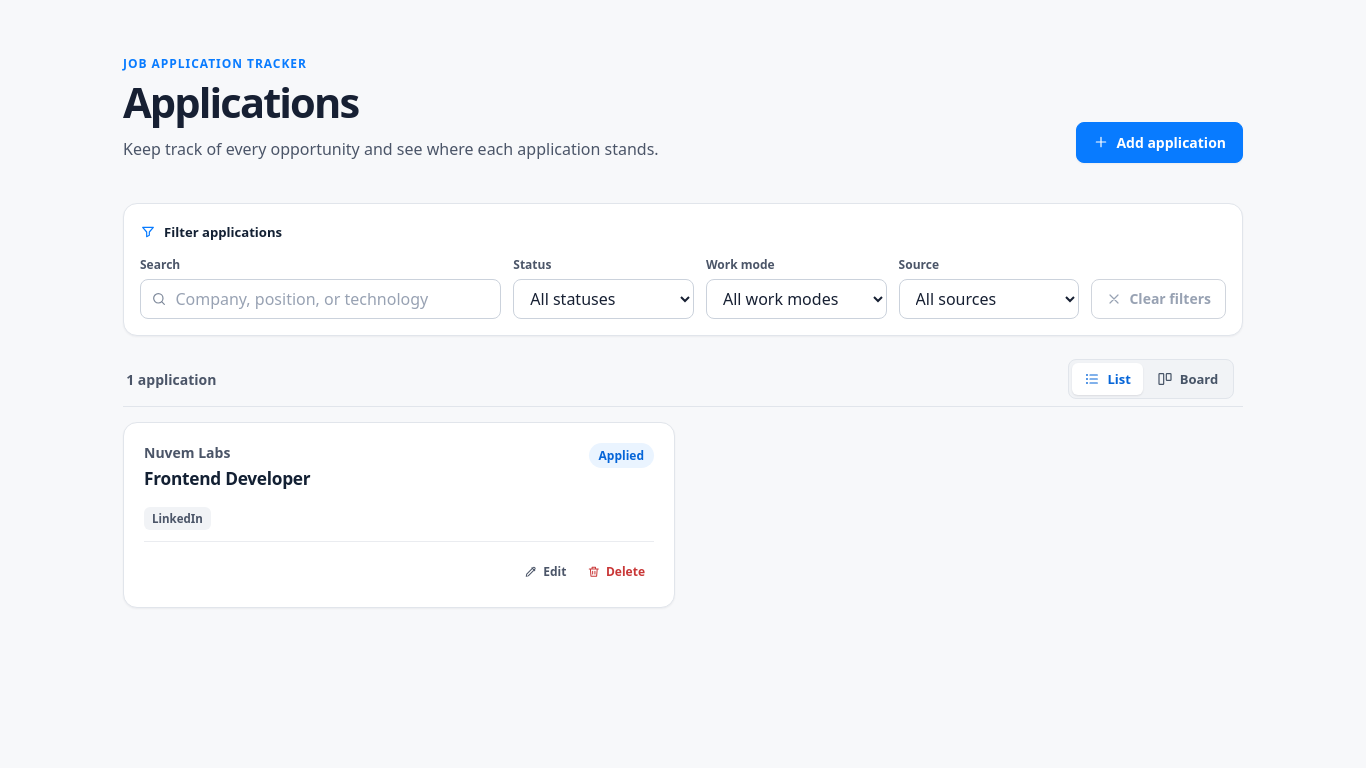
Test: ApplicationsPage feedback › keeps the dialog open and shows human-readable feedback after failure
Step 1. Click the button "Delete" → {"x": 616, "y": 572}, box [578,556,654,587]
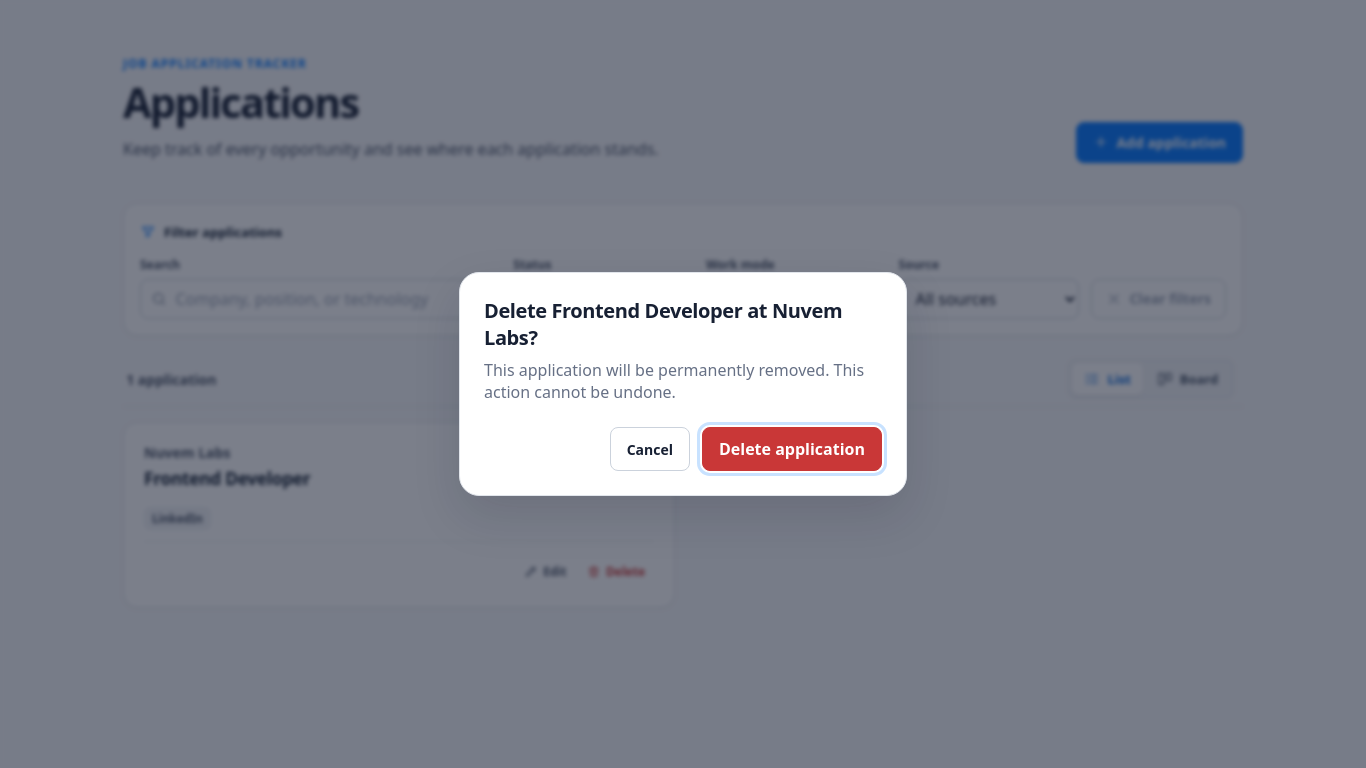
Step 2. Click the button "Delete application" → {"x": 792, "y": 449}, box [702,427,882,471]
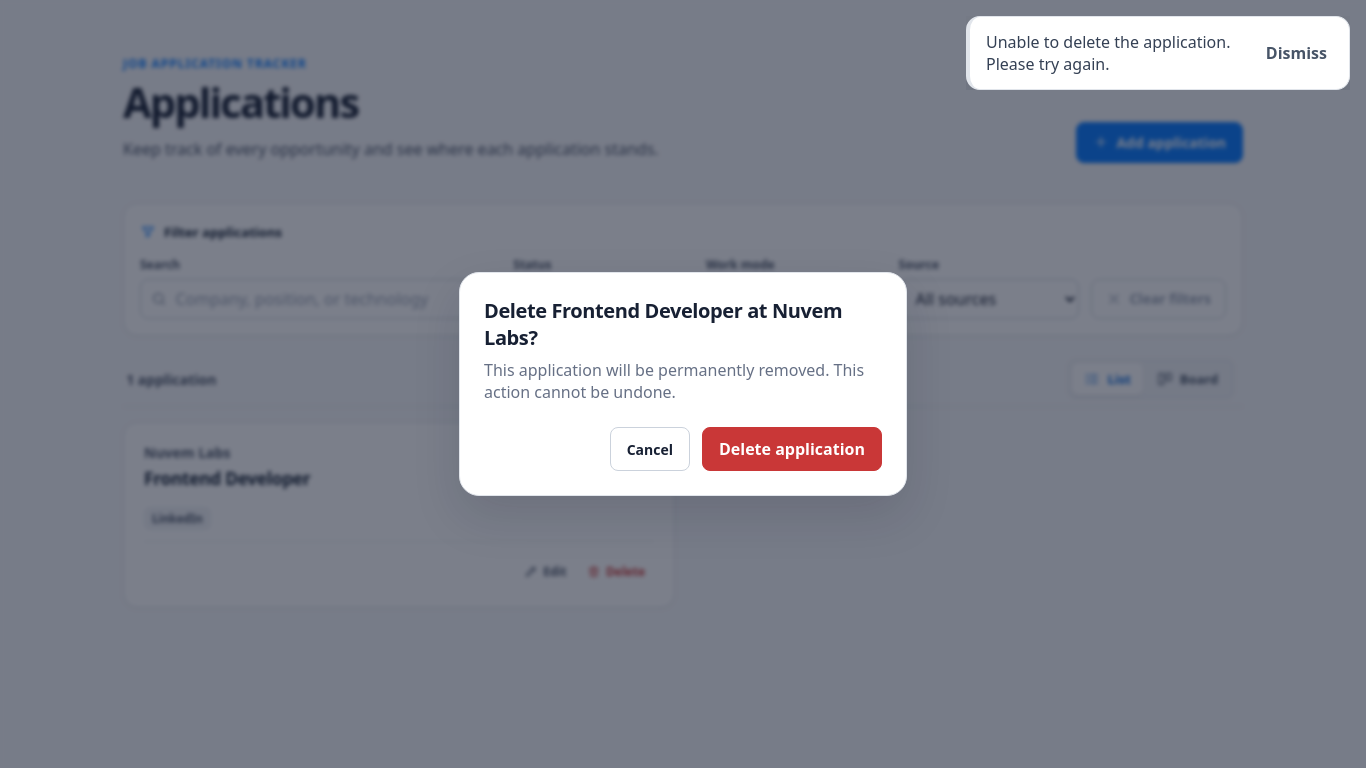
Expected: the dialog is shown, [459,272,907,496]
Expected: the message shows "Unable to delete the application. Please try again.", [986,31,1230,75]
